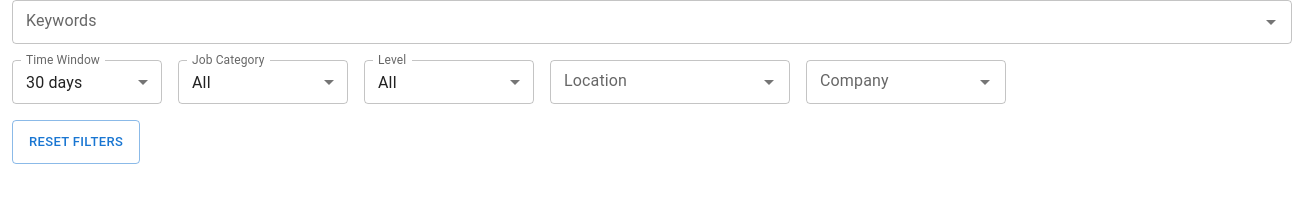
Test: RecentJobsFilters › offers every followed company as an option, not just ones with jobs on screen
Click the dropdown with placeholder "Select company..." at (890, 82), box [812,68,967,96]
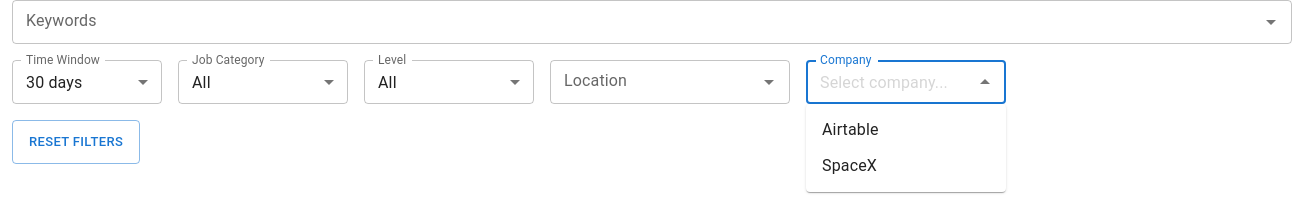
Result: the options read "Airtable", "SpaceX", in this order at [822,120,879,139]; [822,156,877,175]
